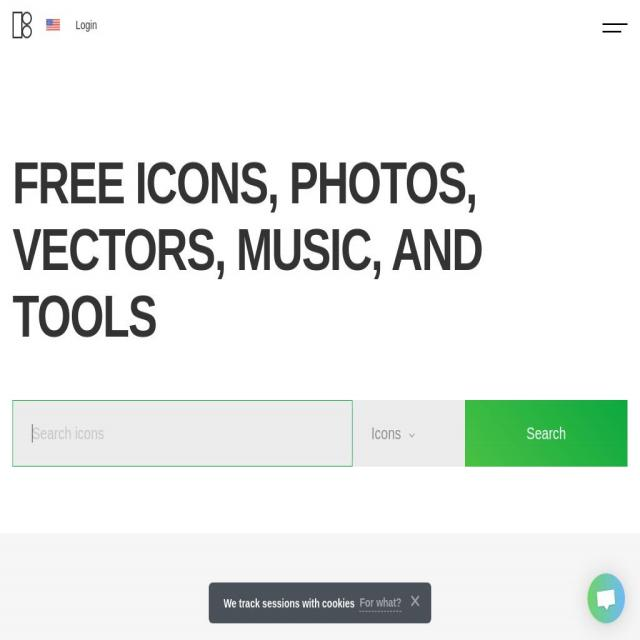chat-option: (584, 567, 630, 633)
language: (42, 12, 64, 35)
login-option: (74, 15, 102, 40)
options: (594, 10, 634, 47)
search: (8, 392, 630, 475)
